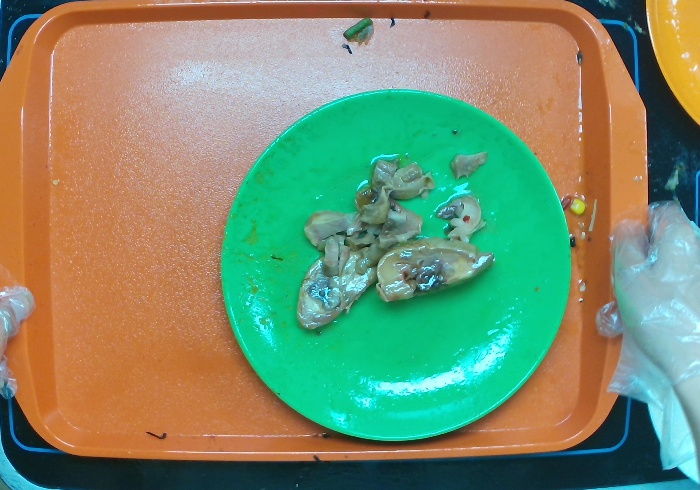HZYJPL-Lv_Se_Yuan_Pan: (204, 72, 590, 445)
